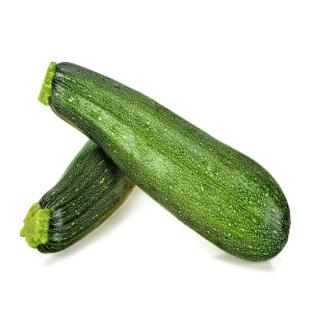Zucchini: (40, 63, 290, 260), (21, 141, 134, 252)
